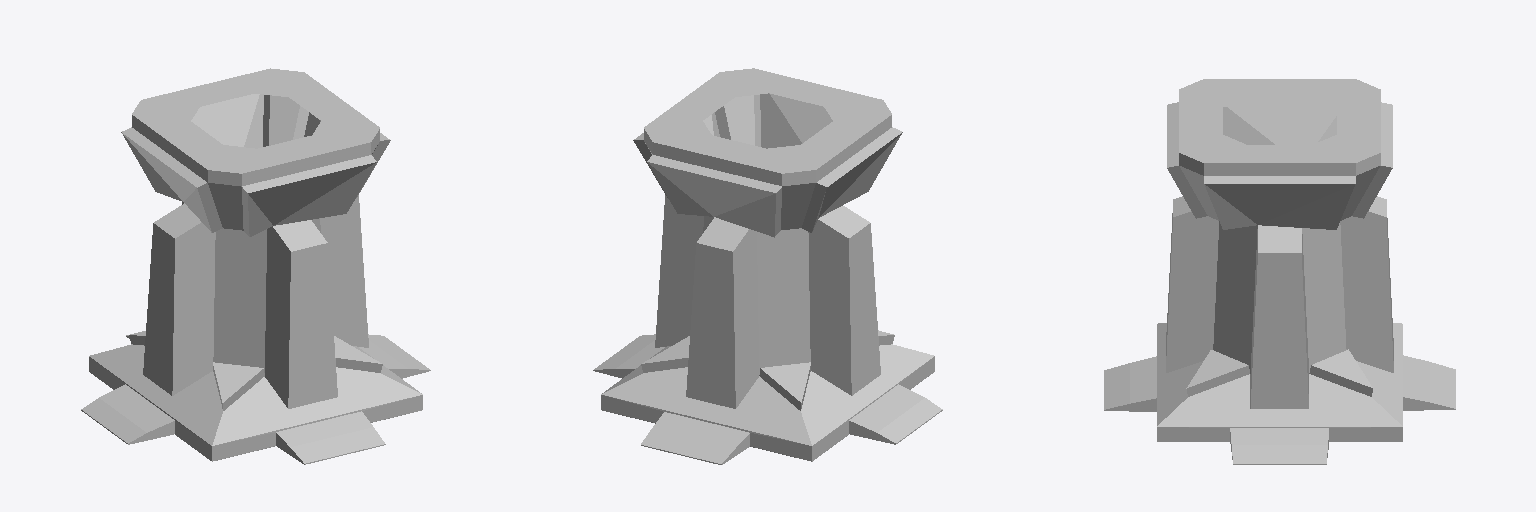
Rendered from Stoyanka 2.obj.
3 renders of one model, left to right at view 1: azimuth 30°, elevation 25°; view 2: azimuth 150°, elevation 25°; view 3: azimuth 270°, elevation 25°, orthographic.
Visible parts, largest first — view 1: Stoyanka_2; view 2: Stoyanka_2; view 3: Stoyanka_2.
Boxes of the visible parts, <box> form: Stoyanka_2: <box>81,68,430,464</box>; Stoyanka_2: <box>593,68,942,464</box>; Stoyanka_2: <box>1104,79,1455,464</box>.
Bounding box in the file's own units: 44.78 × 38.15 × 45.13.